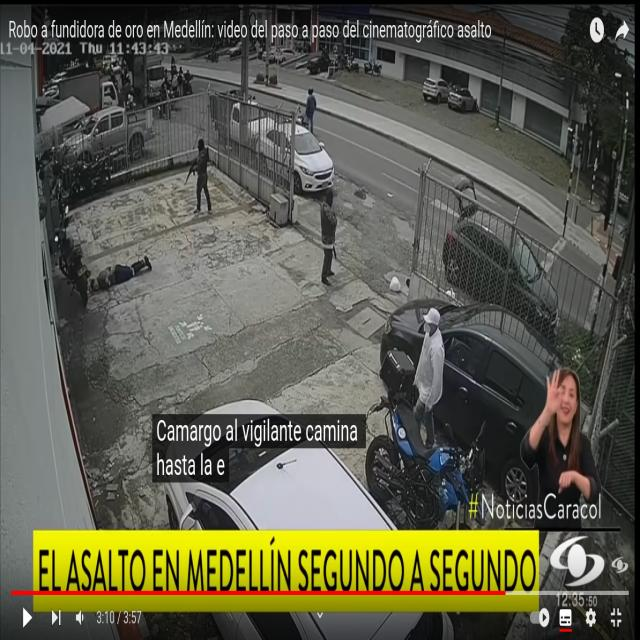FRifle: (182, 153, 198, 189)
